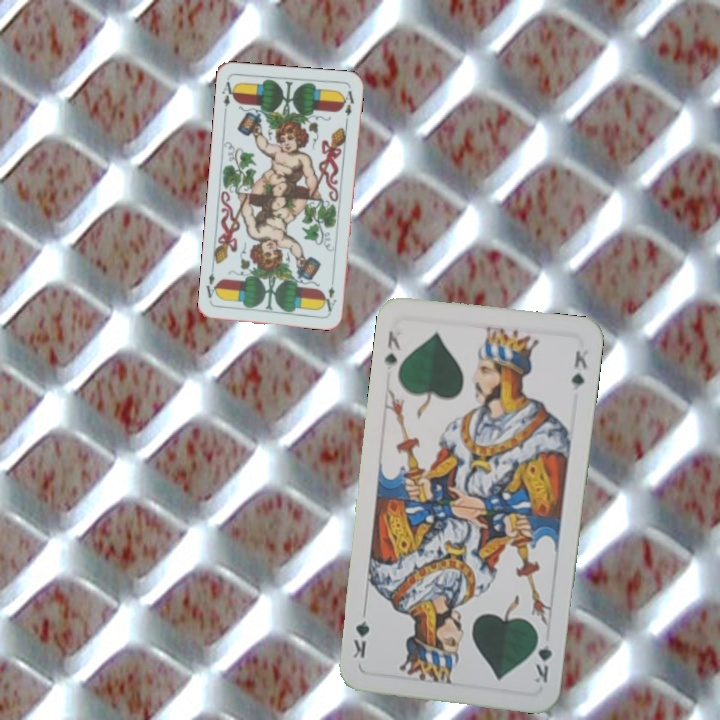EA: (218, 76, 238, 116), (322, 273, 339, 314)
GK: (530, 628, 555, 686), (380, 327, 403, 368)
